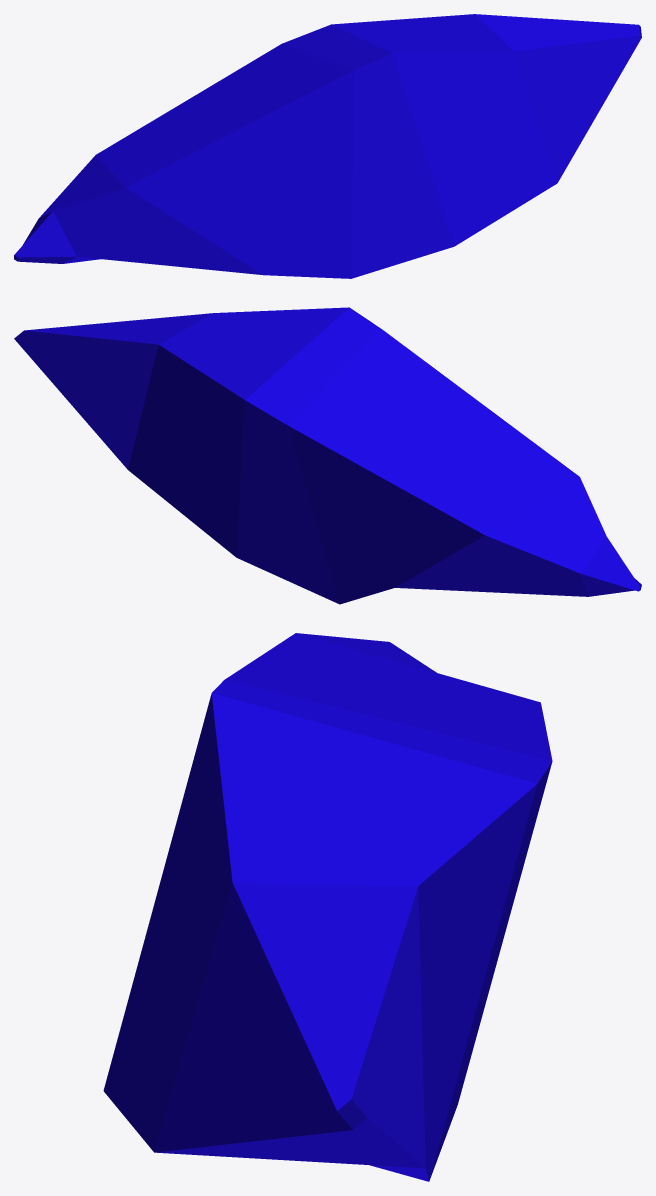
File: prroyectil_Baja.fbx
3 views of the same model, one above another, from view 1: azimuth 30°, elevation 25°; view 2: azimuth 150°, elevation 25°; view 3: azimuth 270°, elevation 25° (orthographic). The views are drawn at different scales.
Visible parts, largest first — view 1: baja1.012; view 2: baja1.012; view 3: baja1.012.
Part boxes in pixels (x1=…): baja1.012: x1=14, y1=14, x2=641, y2=278; baja1.012: x1=14, y1=307, x2=641, y2=604; baja1.012: x1=103, y1=633, x2=552, y2=1181.
Bounding box in the file's own units: 816 × 292 × 257.
